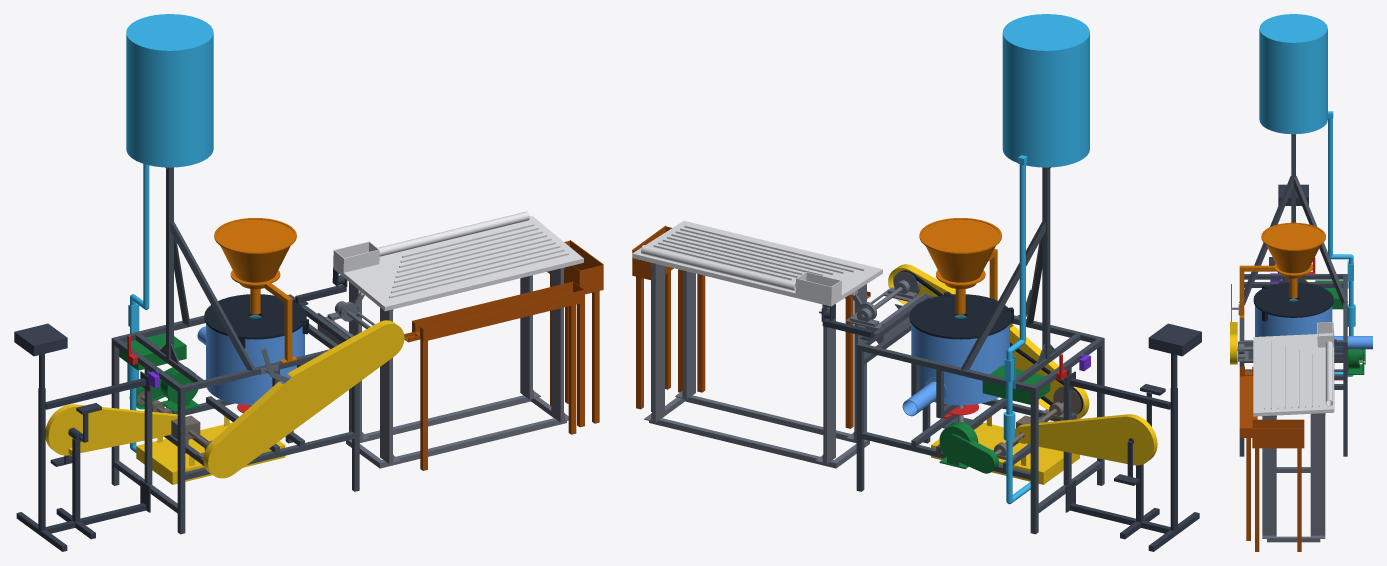
3 renders of one model, left to right at view 1: azimuth 30°, elevation 25°; view 2: azimuth 150°, elevation 25°; view 3: azimuth 270°, elevation 25°, orthographic. The views are drawn at different scales.
Parts seen in each view (by area): view 1: Belt and chain guards, Water header tank, valve, flow meter, hose, Shaking table deck with riffles, Base frame, welded steel tube, Tailings launder and concentrate box, Table stand, head and tensioner, Pedal station (outrigger, seat, crank), Feed hopper, screen and support, Splash tub, standpipe, tailings pipe, Bowl lid guard and clamps, MotionCore module and motor option, Jackshaft, gearbox, chain, pulleys; view 2: Water header tank, valve, flow meter, hose, Base frame, welded steel tube, Table stand, head and tensioner, Shaking table deck with riffles, Belt and chain guards, Pedal station (outrigger, seat, crank), Tailings launder and concentrate box, Splash tub, standpipe, tailings pipe, Feed hopper, screen and support, Bowl lid guard and clamps, MotionCore module and motor option, Jackshaft, gearbox, chain, pulleys (+1 smaller); view 3: Water header tank, valve, flow meter, hose, Shaking table deck with riffles, Table stand, head and tensioner, Base frame, welded steel tube, Tailings launder and concentrate box, Feed hopper, screen and support, Bowl lid guard and clamps, Splash tub, standpipe, tailings pipe, MotionCore module and motor option, Pedal station (outrigger, seat, crank), Belt and chain guards.
Part boxes in pixels (x1,y1,x2,y2): Belt and chain guards: (45, 320, 404, 484); Water header tank, valve, flow meter, hose: (126, 14, 213, 452); Shaking table deck with riffles: (333, 211, 583, 311); Base frame, welded steel tube: (111, 167, 359, 534); Tailings launder and concentrate box: (404, 240, 603, 470); Table stand, head and tensioner: (260, 267, 568, 468); Pedal station (outrigger, seat, crank): (14, 323, 150, 551); Feed hopper, screen and support: (214, 218, 297, 363); Splash tub, standpipe, tailings pipe: (197, 315, 304, 405); Bowl lid guard and clamps: (204, 294, 308, 348); MotionCore module and motor option: (119, 333, 199, 412); Jackshaft, gearbox, chain, pulleys: (137, 390, 212, 459); Water header tank, valve, flow meter, hose: (1002, 14, 1089, 504); Base frame, welded steel tube: (856, 167, 1104, 534); Table stand, head and tensioner: (644, 262, 1031, 468); Shaking table deck with riffles: (632, 220, 882, 306); Belt and chain guards: (888, 264, 1157, 484); Pedal station (outrigger, seat, crank): (1065, 323, 1201, 551); Tailings launder and concentrate box: (632, 225, 870, 428); Splash tub, standpipe, tailings pipe: (902, 315, 1009, 416); Feed hopper, screen and support: (919, 218, 1001, 314); Bowl lid guard and clamps: (909, 292, 1013, 339); MotionCore module and motor option: (939, 365, 1050, 473); Jackshaft, gearbox, chain, pulleys: (991, 386, 1083, 460); Water header tank, valve, flow meter, hose: (1259, 14, 1355, 376); Shaking table deck with riffles: (1253, 322, 1334, 416); Table stand, head and tensioner: (1231, 284, 1325, 542); Base frame, welded steel tube: (1239, 134, 1348, 456); Tailings launder and concentrate box: (1239, 366, 1304, 551); Feed hopper, screen and support: (1239, 222, 1325, 318); Bowl lid guard and clamps: (1253, 282, 1333, 321); Splash tub, standpipe, tailings pipe: (1255, 298, 1372, 349); MotionCore module and motor option: (1315, 280, 1365, 374); Pedal station (outrigger, seat, crank): (1269, 184, 1308, 273); Belt and chain guards: (1230, 279, 1306, 364).
Bounding box in the file's own units: 2.78 × 2.26 × 0.7932.
